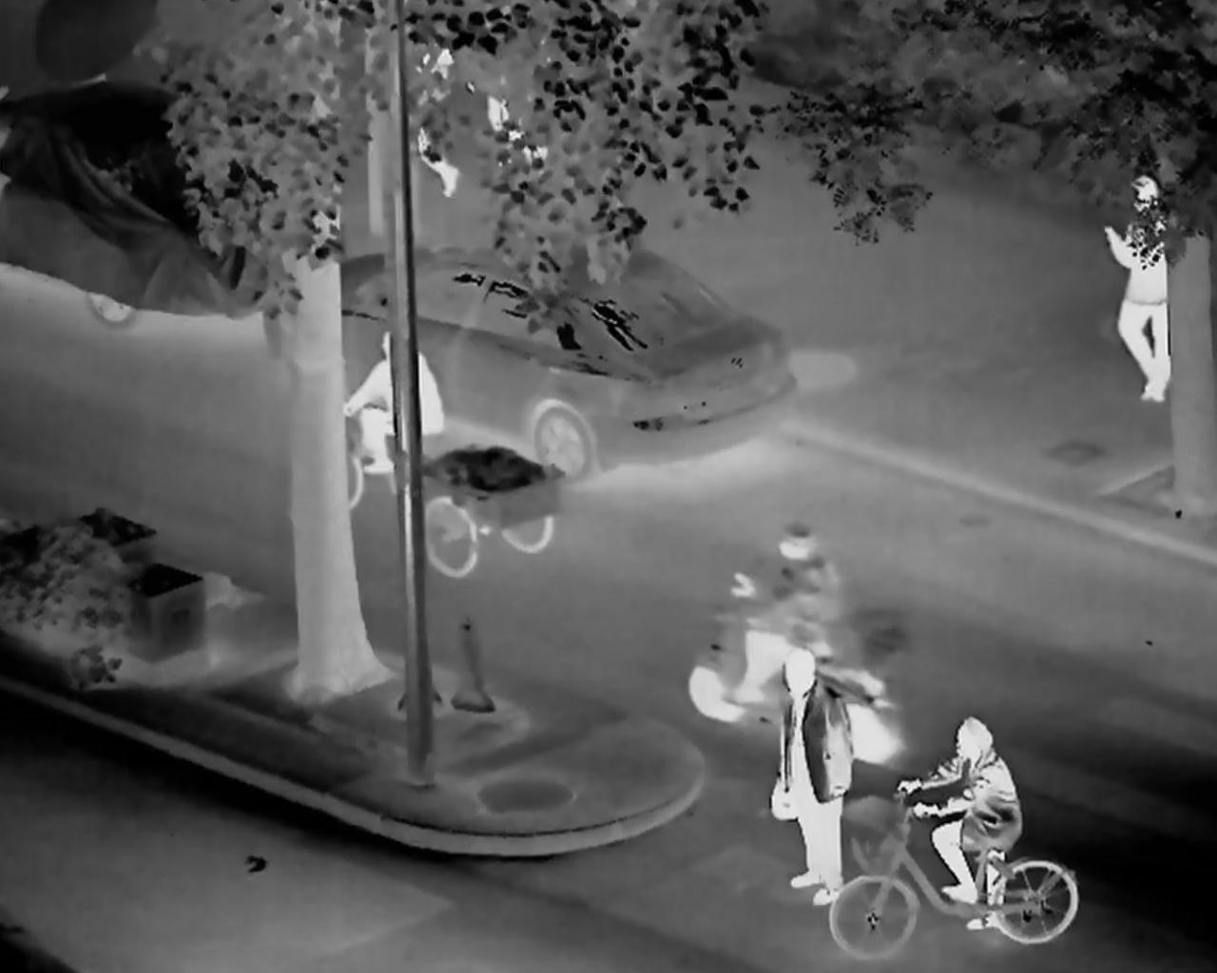person: (897, 714, 1023, 932), (414, 41, 551, 198), (771, 648, 854, 904), (737, 521, 840, 706), (1105, 175, 1173, 405), (338, 328, 444, 474)
